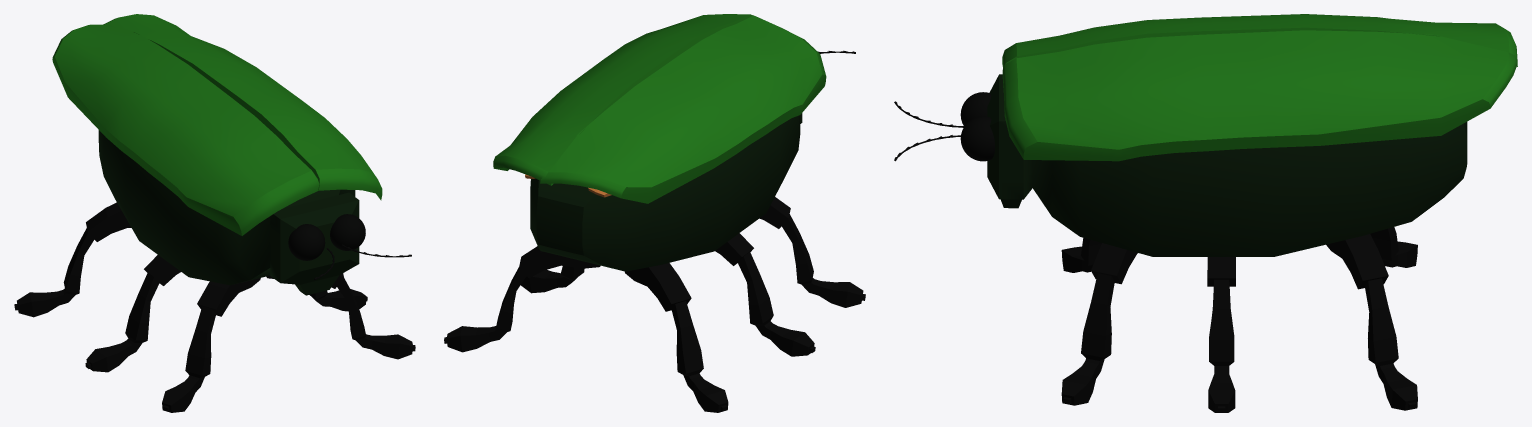
Rendered from Beetle_Model_SmithA.FBX.
3 views of the same model, side by side, from view 1: azimuth 30°, elevation 25°; view 2: azimuth 150°, elevation 25°; view 3: azimuth 270°, elevation 25° (orthographic). The views are drawn at different scales.
Parts seen in each view (by area): view 1: JewelBeetle_Main_Wing_Case_R, JewelBeetle_Body, JewelBeetle_Main_Wing_Case_R002, Leg, Leg003, Leg002, Leg004, Sphere001, Sphere002, Leg005; view 2: JewelBeetle_Main_Wing_Case_R, JewelBeetle_Body, JewelBeetle_Main_Wing_Case_R002, Leg003, Leg002, Leg006, Leg, Leg005; view 3: JewelBeetle_Main_Wing_Case_R002, JewelBeetle_Body, JewelBeetle_Main_Wing_Case_R, Leg006, Leg004, Leg005, Sphere002, Leg003, Leg, Sphere001.
Boxes of the visible parts, x1,y1,x2,y2 form: JewelBeetle_Main_Wing_Case_R: (52,24,319,235); JewelBeetle_Body: (98,130,359,295); JewelBeetle_Main_Wing_Case_R002: (103,14,382,200); Leg: (162,278,260,412); Leg003: (14,202,131,317); Leg002: (85,255,180,372); Leg004: (266,273,415,359); Sphere001: (288,224,325,260); Sphere002: (330,214,365,250); Leg005: (309,289,367,311); JewelBeetle_Main_Wing_Case_R: (540,15,826,203); JewelBeetle_Body: (530,113,802,271); JewelBeetle_Main_Wing_Case_R002: (493,14,753,185); Leg003: (625,263,728,412); Leg002: (715,233,815,356); Leg006: (444,246,600,352); Leg: (759,197,865,307); Leg005: (521,266,584,293); JewelBeetle_Main_Wing_Case_R002: (1002,30,1516,161); JewelBeetle_Body: (987,74,1467,256); JewelBeetle_Main_Wing_Case_R: (1002,14,1517,68); Leg006: (1326,234,1417,410); Leg004: (1061,243,1137,405); Leg005: (1207,257,1235,412); Sphere002: (960,116,994,161); Leg003: (1370,227,1417,267); Leg: (1061,238,1101,272); Sphere001: (960,92,991,125).
Bounding box in the file's own units: 0.328 × 0.2798 × 0.5194.
